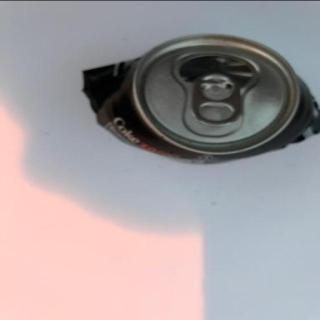Anorganik: (75, 34, 320, 167)
